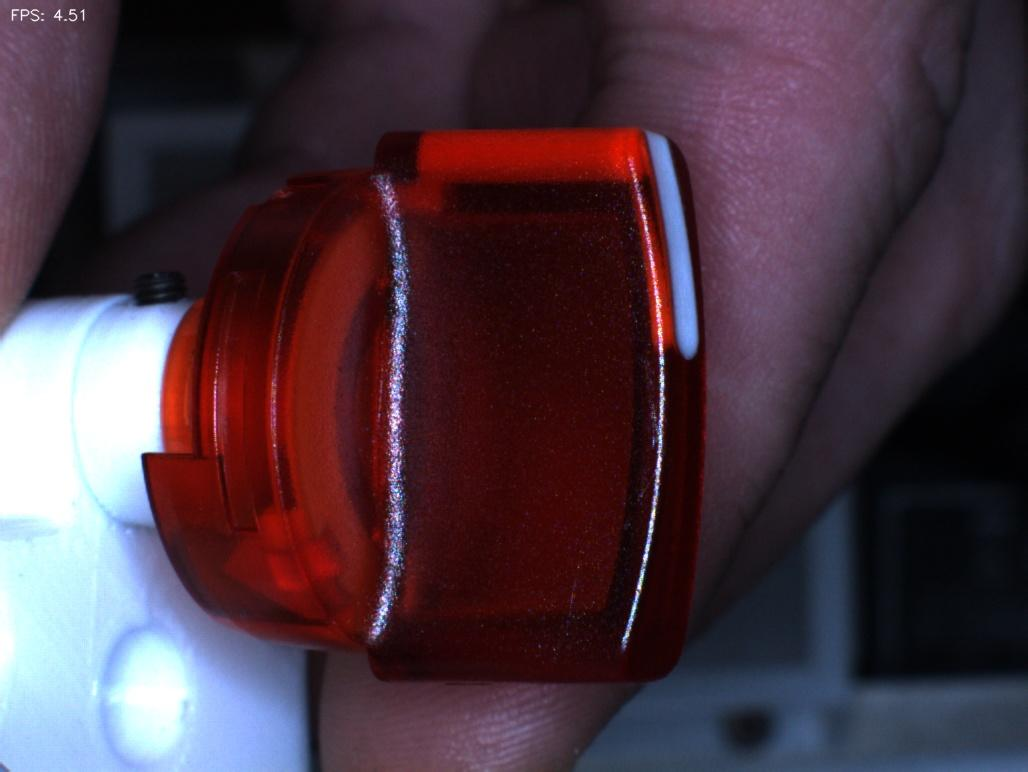Givrage: (602, 356, 682, 513)
